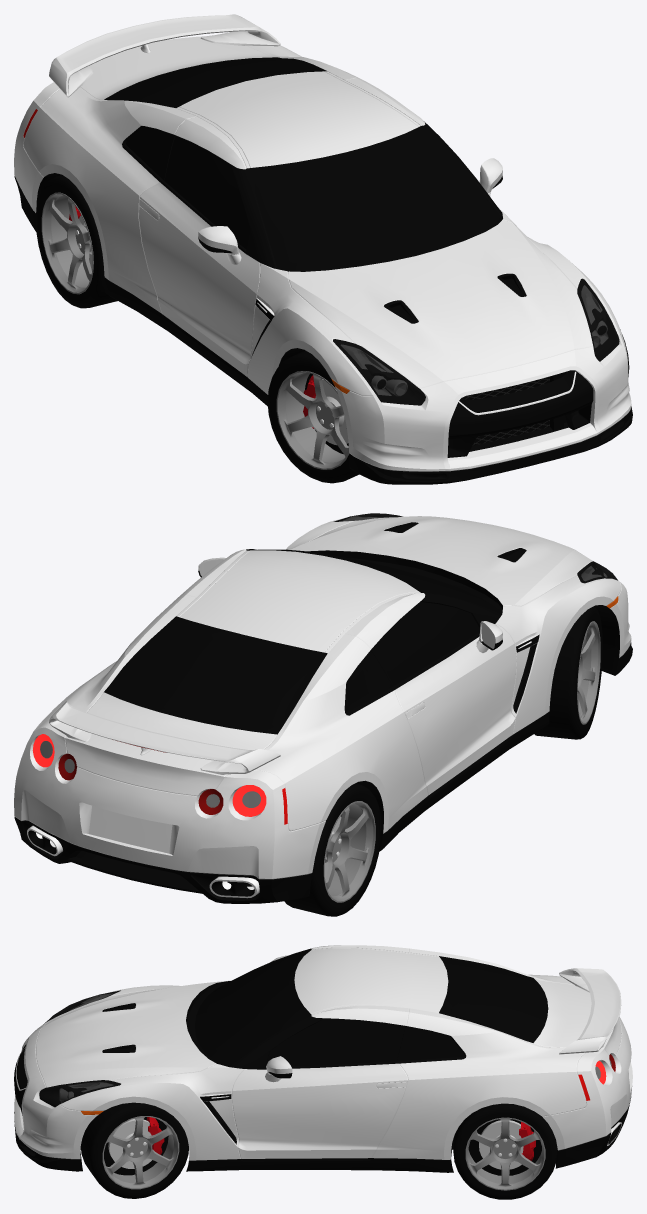
3 views of the same model, one above another, from view 1: azimuth 30°, elevation 25°; view 2: azimuth 150°, elevation 25°; view 3: azimuth 270°, elevation 25° (orthographic). The views are drawn at different scales.
Parts seen in each view (by area): view 1: mesh.001_paint_0, mesh.011_glass_0, mesh.004_bumpa_0, mesh.003_mlack_0, wheel.002, wheel.001, mesh.010_glass_l_0, mesh.007_black_0, mesh.008_bhrome_0, mesh.015_grill_0; view 2: mesh.001_paint_0, mesh.011_glass_0, mesh.004_bumpa_0, mesh.003_mlack_0, wheel.001, wheel.002, mesh.008_bhrome_0, mesh.014_red_0, mesh.010_glass_l_0, mesh.012_brake_0, mesh_light_0; view 3: mesh.001_paint_0, mesh.011_glass_0, mesh.004_bumpa_0, wheel, wheel.001, mesh.003_mlack_0, mesh.010_glass_l_0, mesh.007_black_0, mesh.008_bhrome_0.
Part boxes in pixels (x1,y1,x2,y2): mesh.001_paint_0: [14, 14, 631, 471]; mesh.011_glass_0: [113, 58, 491, 262]; mesh.004_bumpa_0: [14, 121, 632, 484]; mesh.003_mlack_0: [36, 57, 612, 451]; wheel.002: [267, 350, 359, 483]; wheel.001: [35, 175, 117, 308]; mesh.010_glass_l_0: [333, 278, 619, 405]; mesh.007_black_0: [333, 279, 618, 405]; mesh.008_bhrome_0: [256, 285, 607, 395]; mesh.015_grill_0: [465, 376, 549, 445]; mesh.001_paint_0: [14, 516, 631, 879]; mesh.011_glass_0: [113, 549, 491, 728]; mesh.004_bumpa_0: [14, 522, 632, 903]; mesh.003_mlack_0: [27, 550, 619, 897]; wheel.001: [284, 783, 381, 916]; wheel.002: [534, 606, 602, 739]; mesh.008_bhrome_0: [27, 516, 606, 898]; mesh.014_red_0: [32, 734, 266, 816]; mesh.010_glass_l_0: [333, 513, 617, 583]; mesh.012_brake_0: [58, 741, 223, 814]; mesh_light_0: [40, 741, 260, 807]; mesh.001_paint_0: [14, 945, 632, 1160]; mesh.011_glass_0: [206, 952, 543, 1066]; mesh.004_bumpa_0: [14, 948, 631, 1172]; wheel: [81, 1102, 188, 1198]; wheel.001: [453, 1103, 557, 1199]; mesh.003_mlack_0: [29, 949, 621, 1168]; mesh.010_glass_l_0: [39, 990, 120, 1107]; mesh.007_black_0: [39, 991, 120, 1106]; mesh.008_bhrome_0: [59, 993, 621, 1145].
Bounding box in the file's own units: 92.82 × 65.93 × 211.
